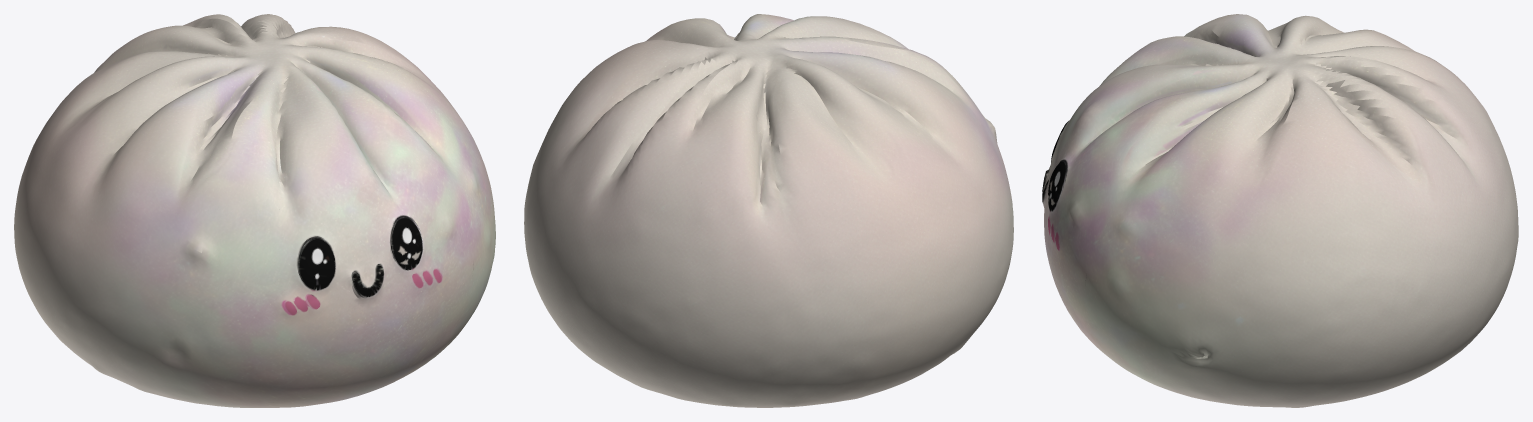
The model's file is Meshy_AI_Opal_Squishy_Bun_Smoo_0823102809_texture.obj.
The picture shows the model from 3 angles, left to right: view 1: azimuth 30°, elevation 25°; view 2: azimuth 150°, elevation 25°; view 3: azimuth 270°, elevation 25°; orthographic projection. The views are drawn at different scales.
Parts seen in each view (by area): view 1: Meshy_AI_Opal_Squishy_Bun_Smoo_0823102809_texture; view 2: Meshy_AI_Opal_Squishy_Bun_Smoo_0823102809_texture; view 3: Meshy_AI_Opal_Squishy_Bun_Smoo_0823102809_texture.
Part boxes in pixels (x1,y1,x2,y2): Meshy_AI_Opal_Squishy_Bun_Smoo_0823102809_texture: [14, 14, 495, 407]; Meshy_AI_Opal_Squishy_Bun_Smoo_0823102809_texture: [524, 14, 1013, 407]; Meshy_AI_Opal_Squishy_Bun_Smoo_0823102809_texture: [1042, 14, 1518, 407].
Size of the model in its own units: 1.9 by 1.34 by 1.88.
Materials: 1 (1 with a texture image).
